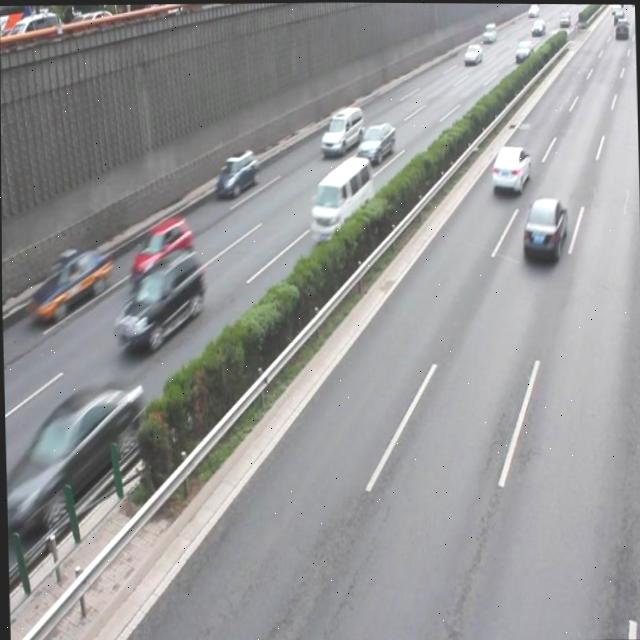car: (12, 381, 144, 525), (111, 247, 205, 352), (29, 250, 112, 323), (127, 217, 193, 285), (519, 198, 566, 262), (214, 150, 258, 200), (489, 145, 529, 195), (355, 123, 393, 162)
truck: (308, 157, 371, 243), (318, 106, 363, 157)
